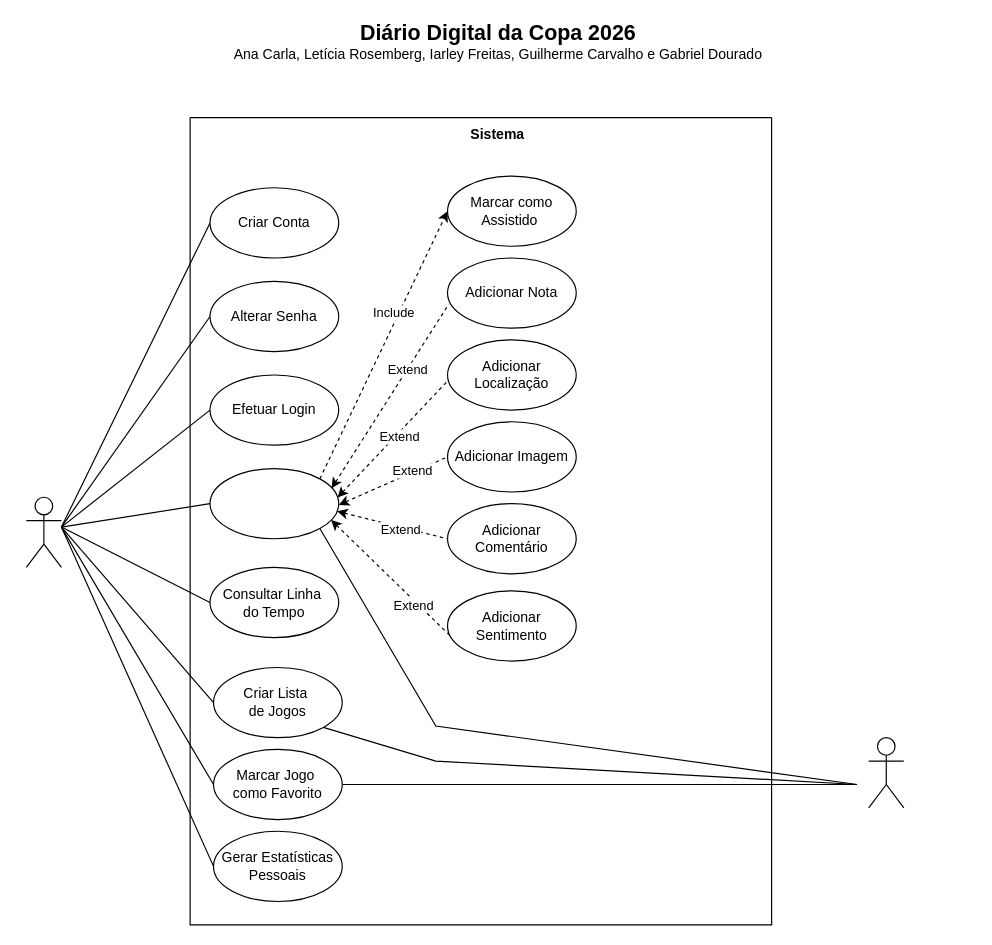
Some shapes in this 992 by 945 pixel diagram are drawn without their labels. The shapes that lost their labels are listed below. From the top down, each one's centre as x and y in pixels, then its label:
At (274,503): "Registrar Experiência".
At (43,531): "Usuário".
At (886,772): "Sistema de Dados da Copa".
